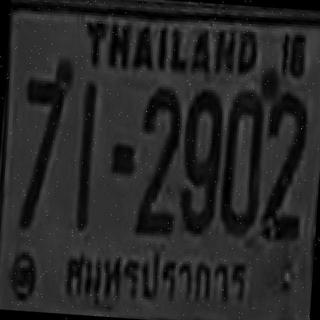N00: (218, 87, 264, 234)
N02: (260, 91, 308, 221), (258, 114, 306, 238), (136, 86, 182, 213), (134, 116, 180, 234)
N09: (176, 87, 224, 234)
P57: (59, 240, 252, 318)
